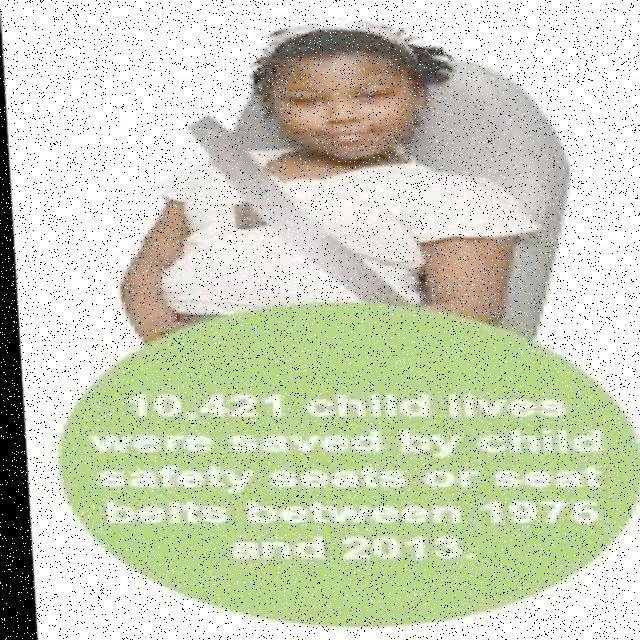seatbelt: (156, 126, 520, 312)
